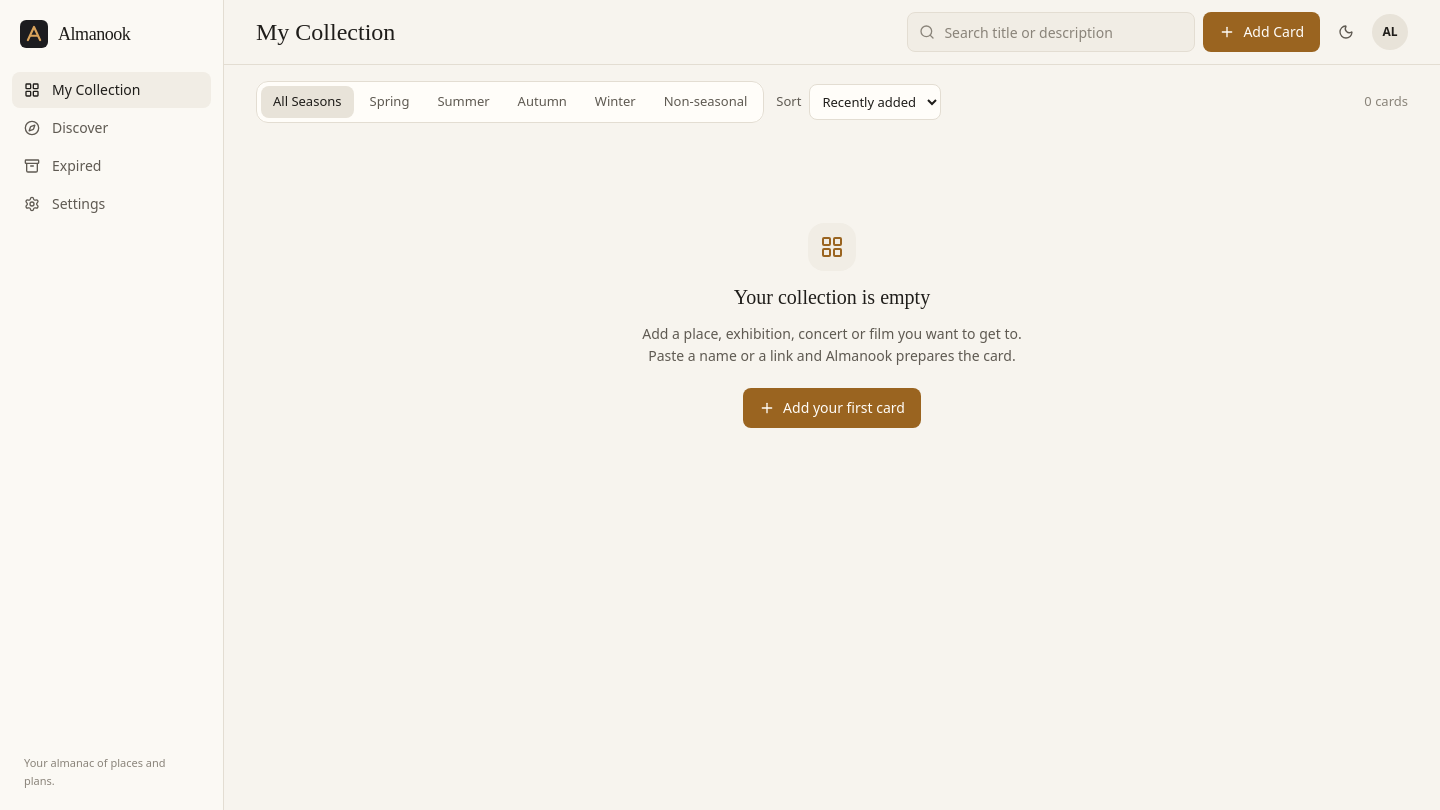
Test case: navigation and auth › shows the four sections in the sidebar and switches pages
Check: the link "My Collection" is shown, box [12, 72, 211, 108]
Check: the link "Expired" is shown, box [24, 156, 101, 175]
Click the link "Discover": (66,128) [24, 118, 108, 137]
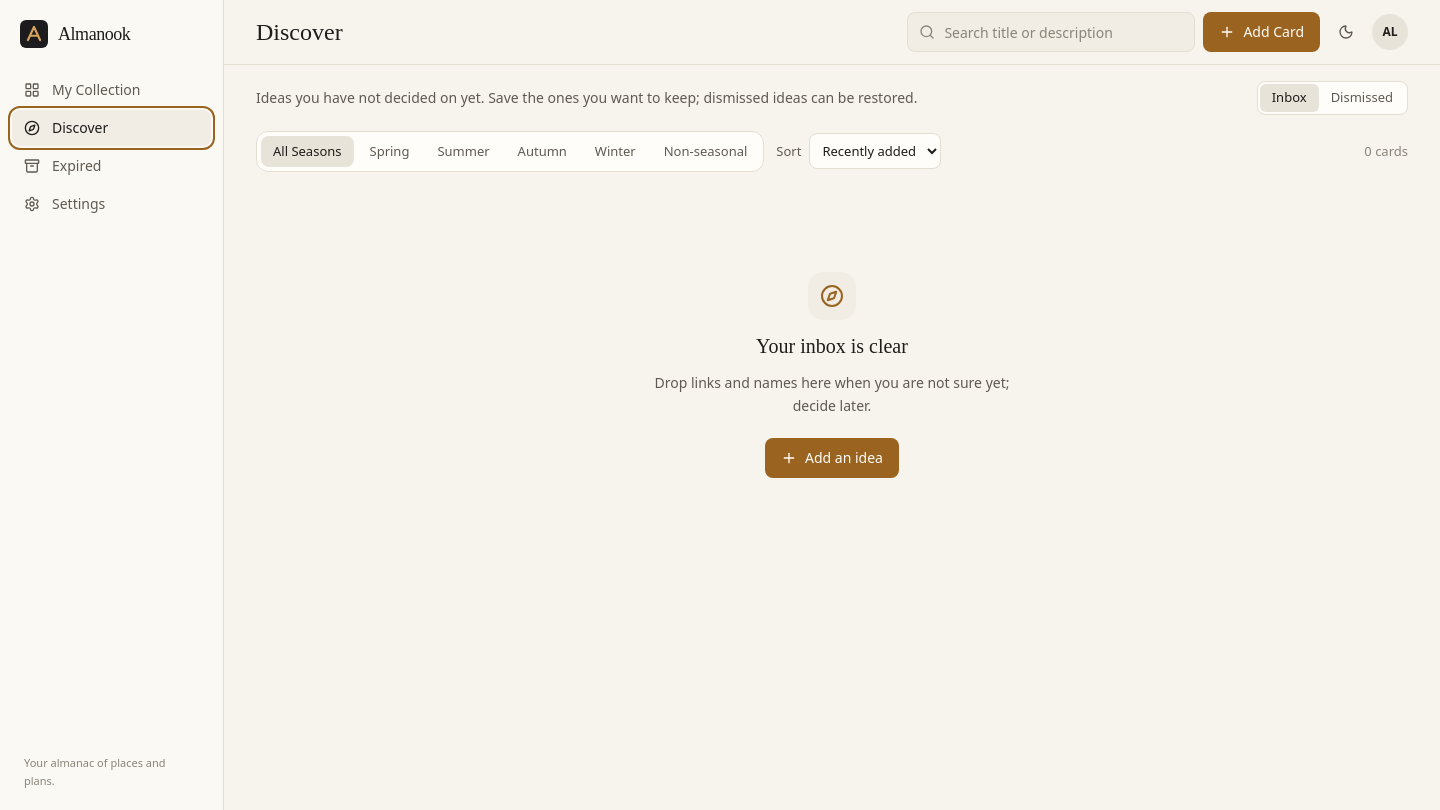
Check: the heading "Discover" is shown, box [256, 16, 343, 48]
Check: the heading "Your inbox is clear" is shown, box [756, 332, 908, 360]
Click the link "Expired": (63,166) [24, 156, 101, 175]
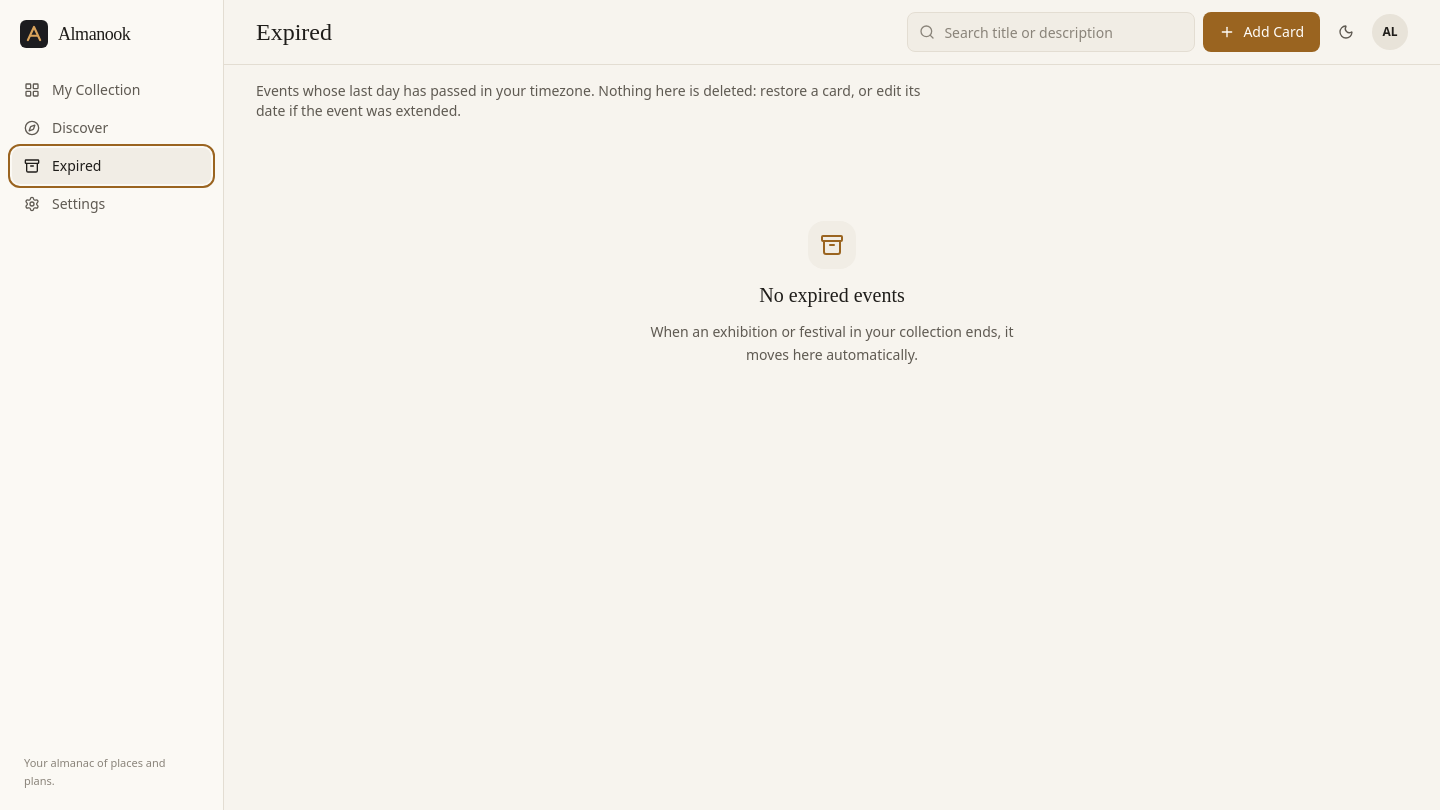
Check: the heading "No expired events" is shown, box [759, 281, 905, 309]
